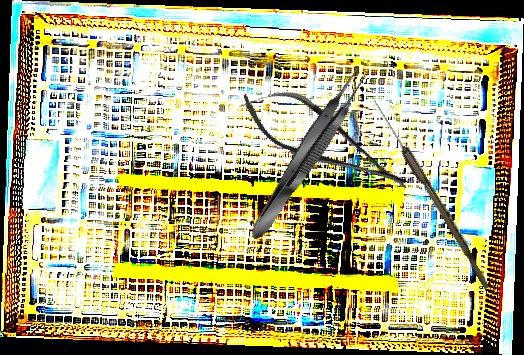Micro Scissor: (230, 70, 420, 213)
Surgical Spoon: (368, 97, 495, 290)
Tissue Forceps: (241, 63, 374, 246)
